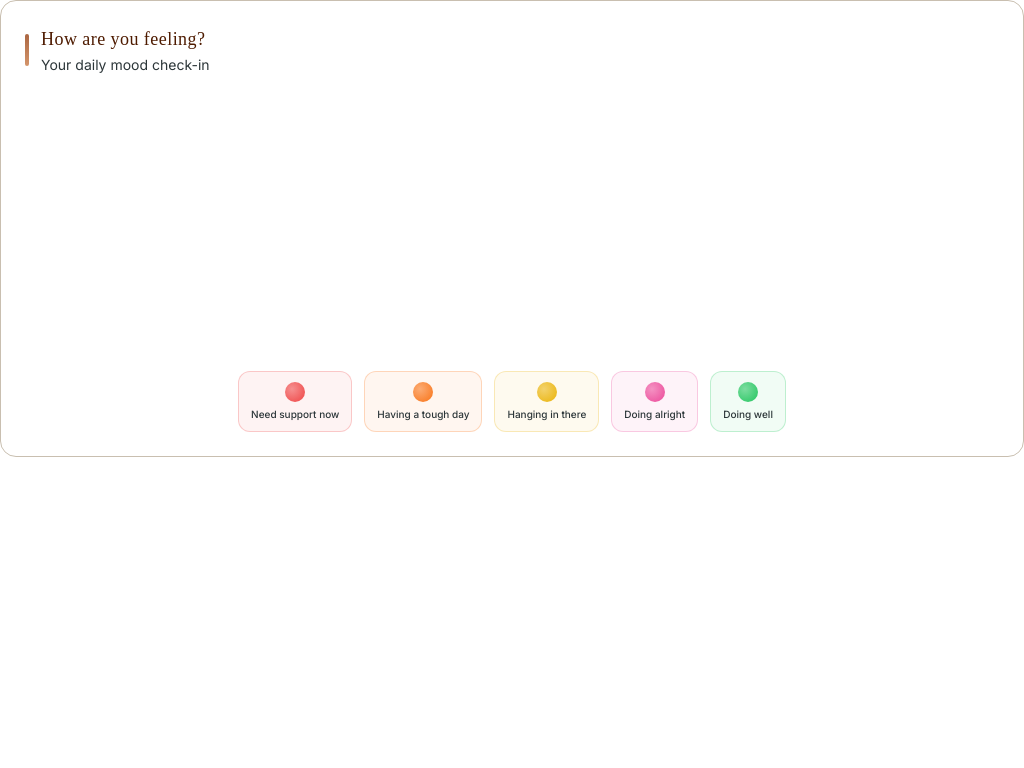
Test case: MoodCheckIn › shows share-with-provider checkbox after selecting a mood
The width and height of the screenshot is (1024, 768).
Click the button "Doing alright".
click(655, 401)  # box [611,371,698,432]
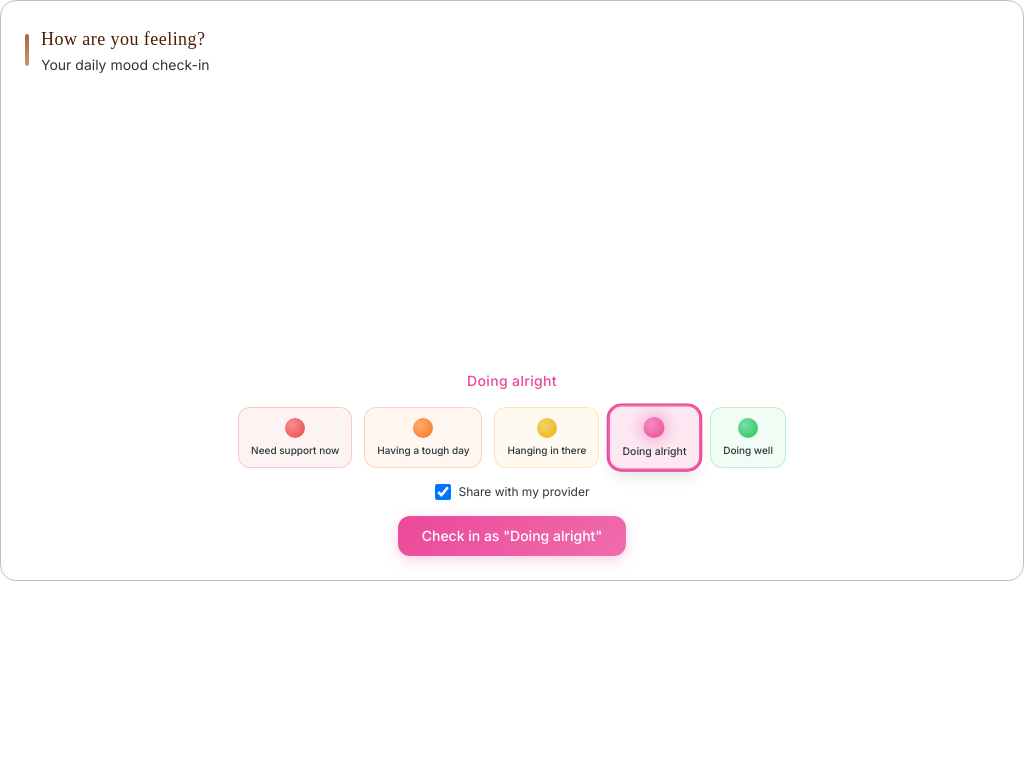
Check: the text "Share with my provider" is shown, box [458,484,590,500]
